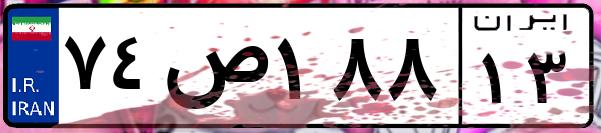1: (270, 28, 330, 110), (475, 38, 525, 113)
3: (525, 38, 570, 115)
4: (110, 28, 158, 98)
7: (57, 26, 110, 100)
8: (385, 28, 445, 110), (330, 28, 385, 110)
ص: (158, 20, 270, 120)
